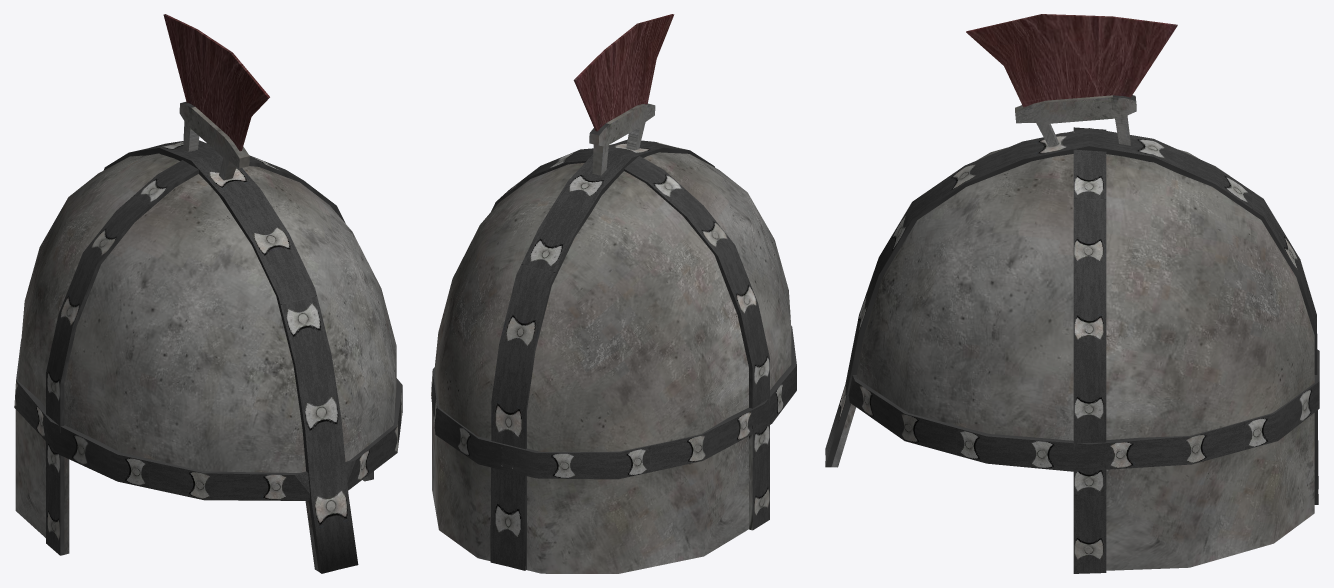
The model's file is helm_anglo1.glb.
3 renders of one model, left to right at view 1: azimuth 30°, elevation 25°; view 2: azimuth 150°, elevation 25°; view 3: azimuth 270°, elevation 25°, orthographic. The views are drawn at different scales.
Parts seen in each view (by area): view 1: Plane; view 2: Plane; view 3: Plane.
Part boxes in pixels (x1,y1,x2,y2): Plane: (14,14,402,573); Plane: (431,14,796,573); Plane: (825,14,1319,573).
Bounding box in the file's own units: 0.24 × 0.3439 × 0.3201.
1 material, 1 textured.
